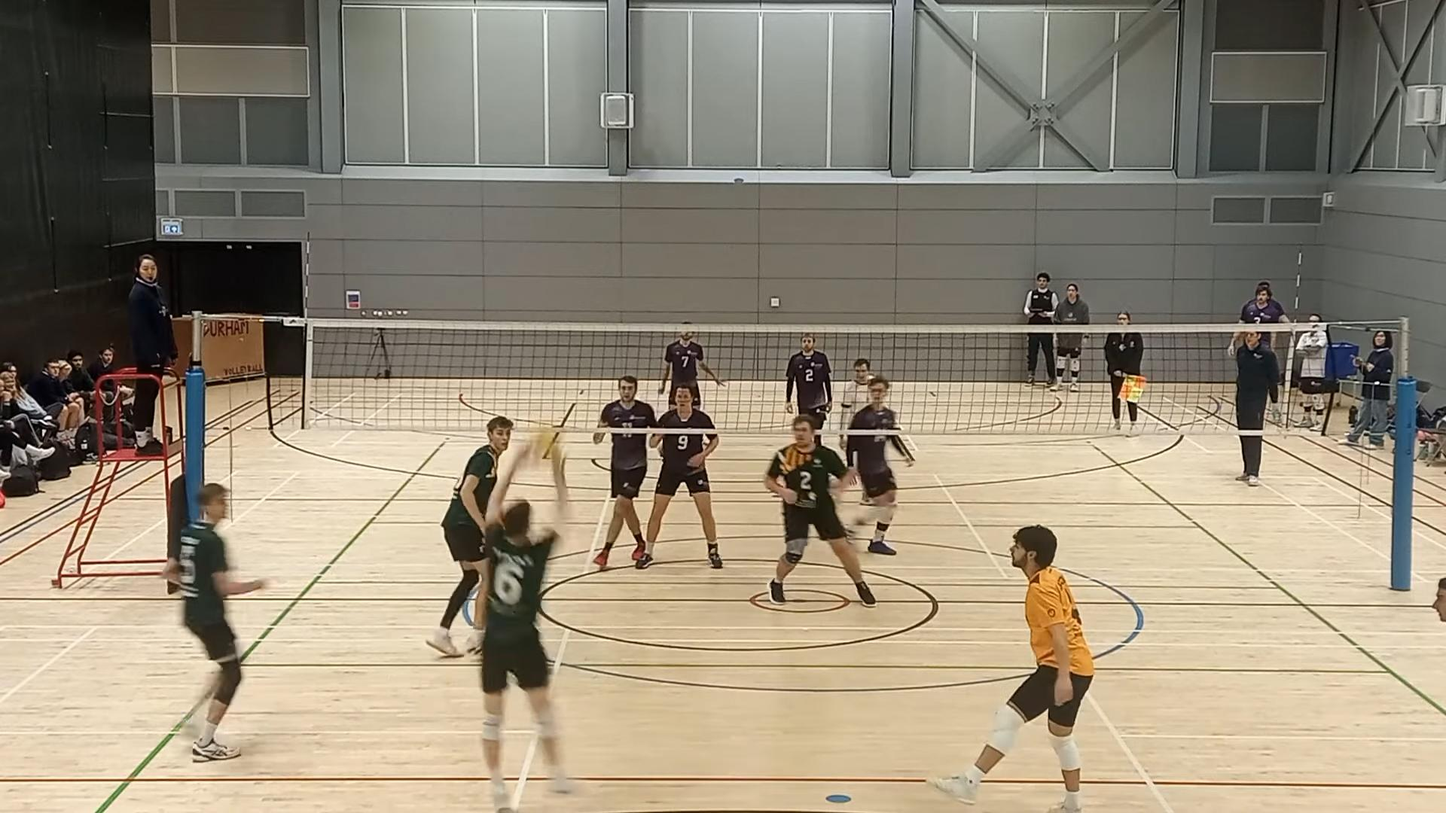Player: (930, 525, 1094, 812), (163, 484, 264, 761), (764, 416, 875, 607), (426, 416, 513, 656), (635, 432, 722, 568), (846, 434, 914, 555), (593, 431, 648, 566), (657, 328, 724, 405), (786, 333, 832, 428), (837, 358, 873, 418)
Receive: (479, 431, 571, 812)
